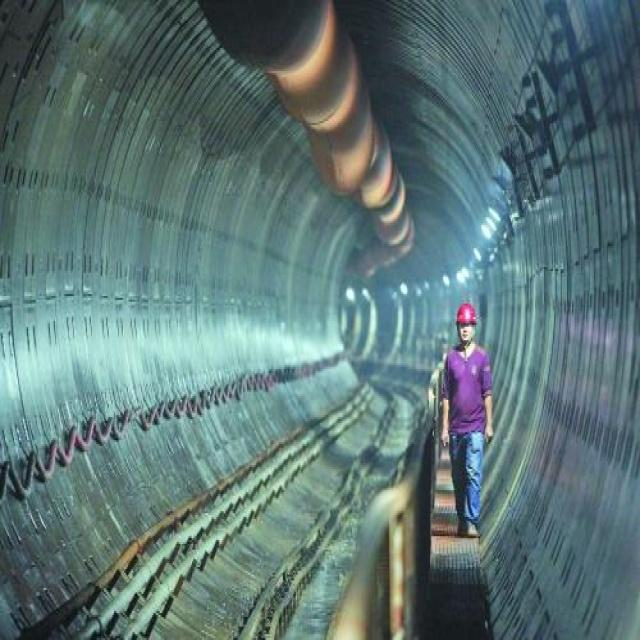helmet: (456, 397, 478, 467)
